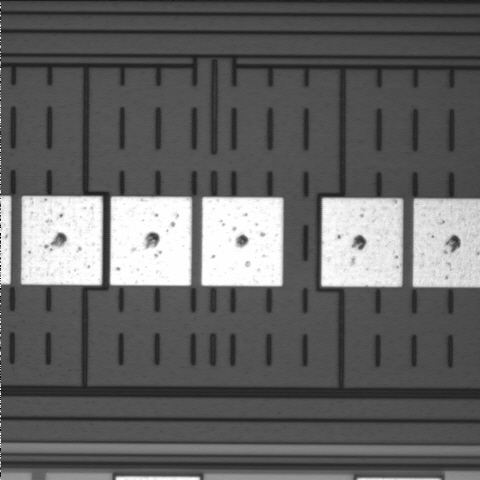pad: (21, 196, 103, 285), (110, 197, 192, 286), (201, 197, 283, 286), (321, 198, 403, 287)
